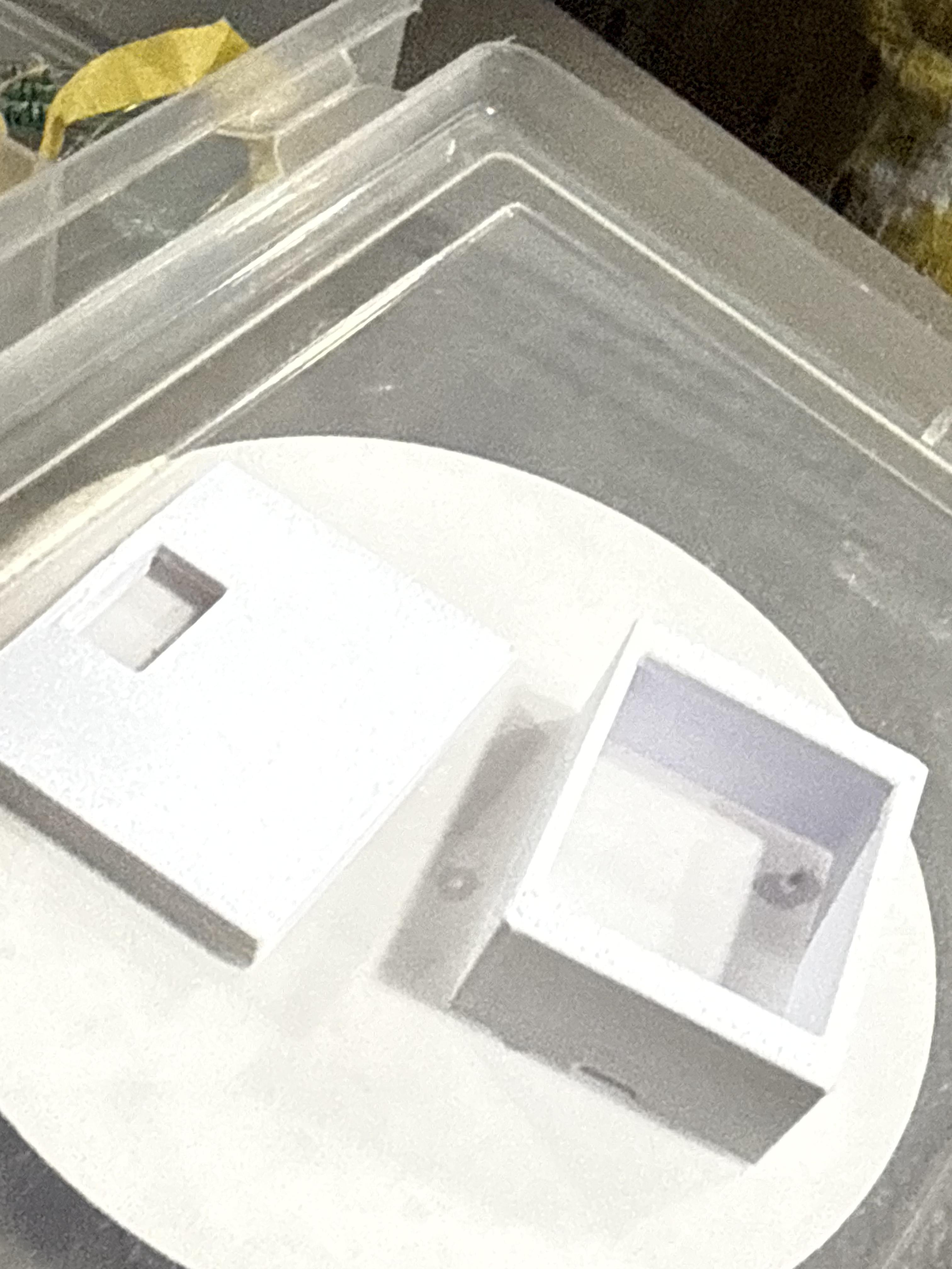enclosure: (0, 461, 529, 983), (451, 614, 930, 1167)
